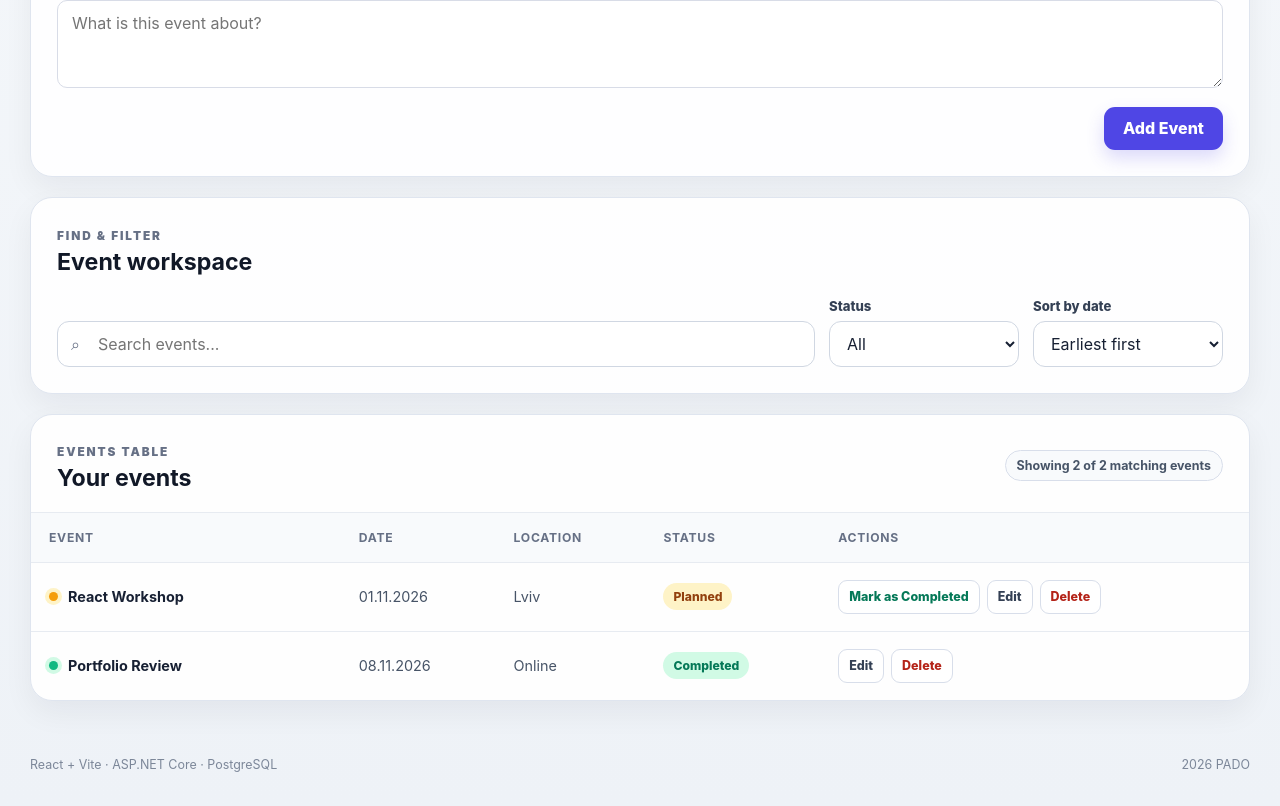
Test case: updates existing event over PUT
(page scrolled)
expect the text "React Workshop" is shown: met, box [68,588,184,605]
Click the button "Edit" in the row of "React Workshop" at [1010, 597], box [987,580,1033,614]
(page scrolled)
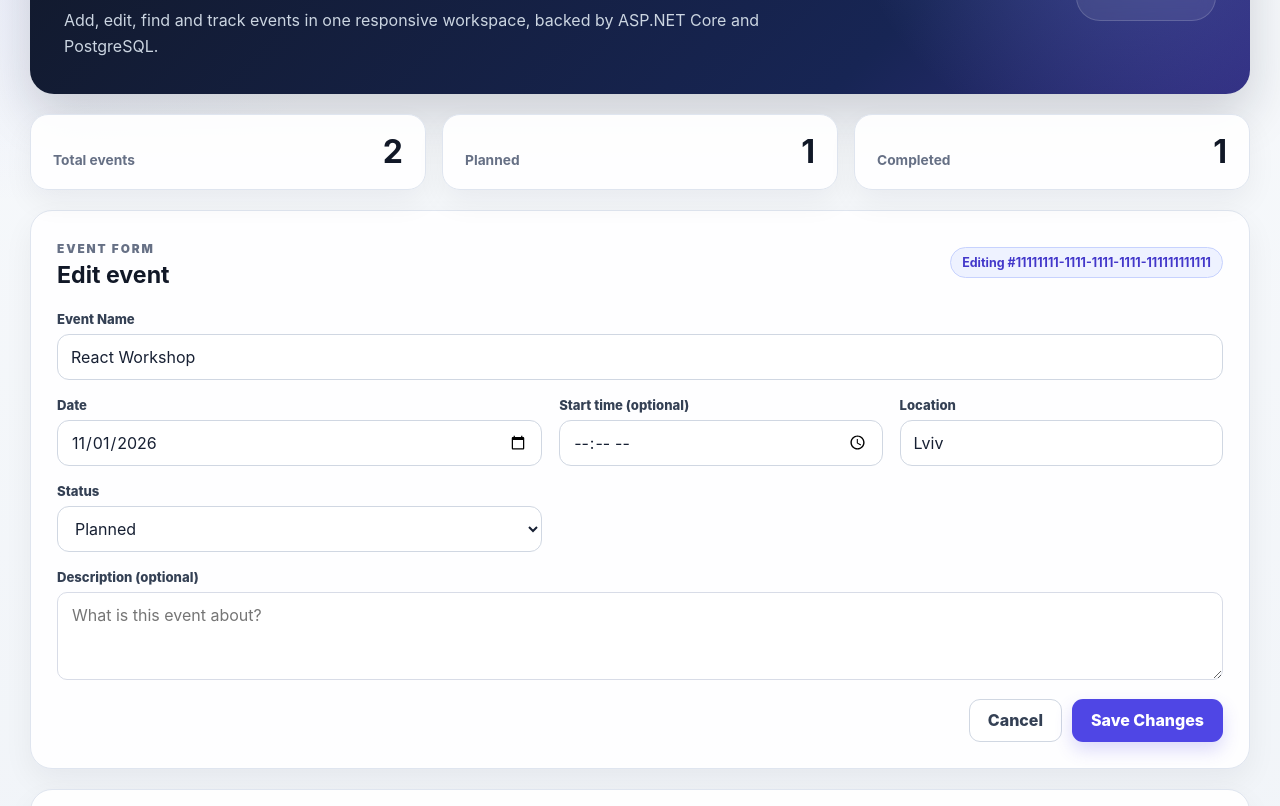
Replace the text in the field labelled "Event Name" with "Advanced React" at [640, 357], box [57,334,1223,380]
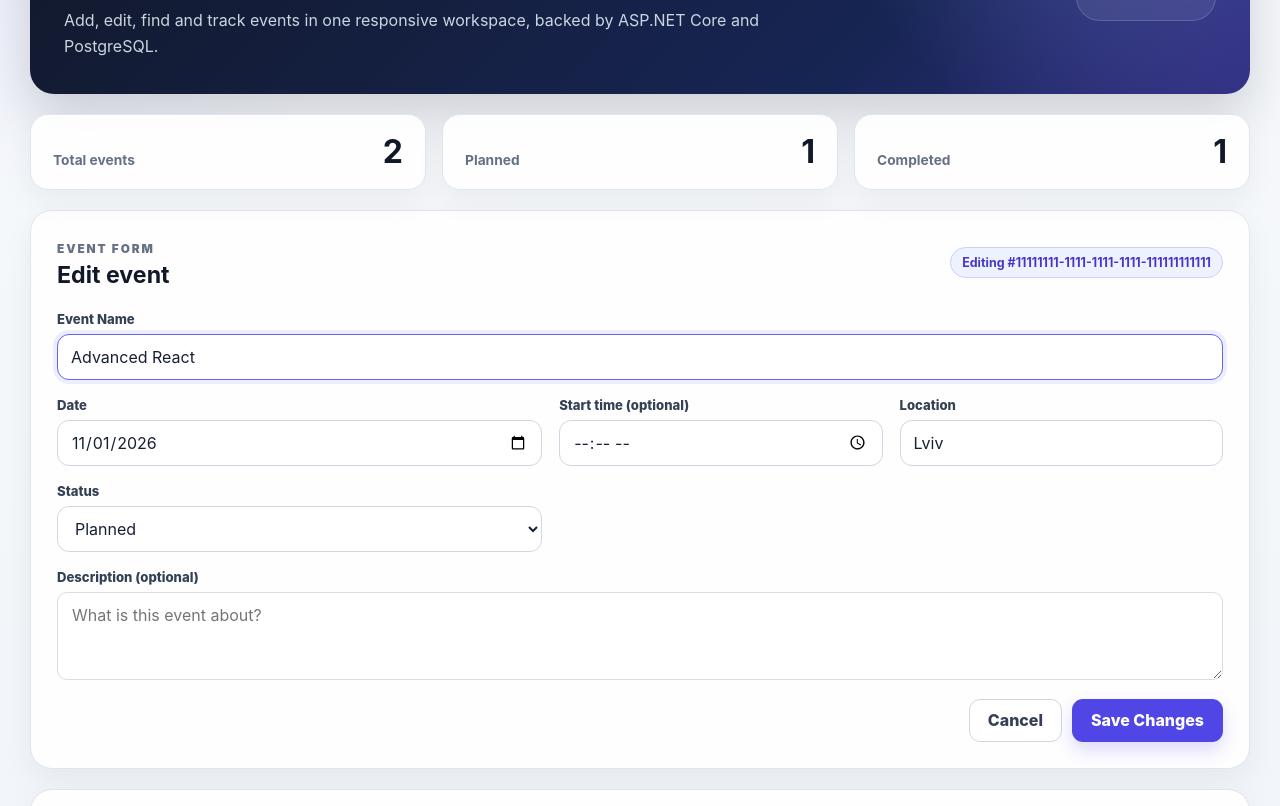
Click the button "Save Changes" at [1148, 720], box [1072,699,1223,742]
(page scrolled)
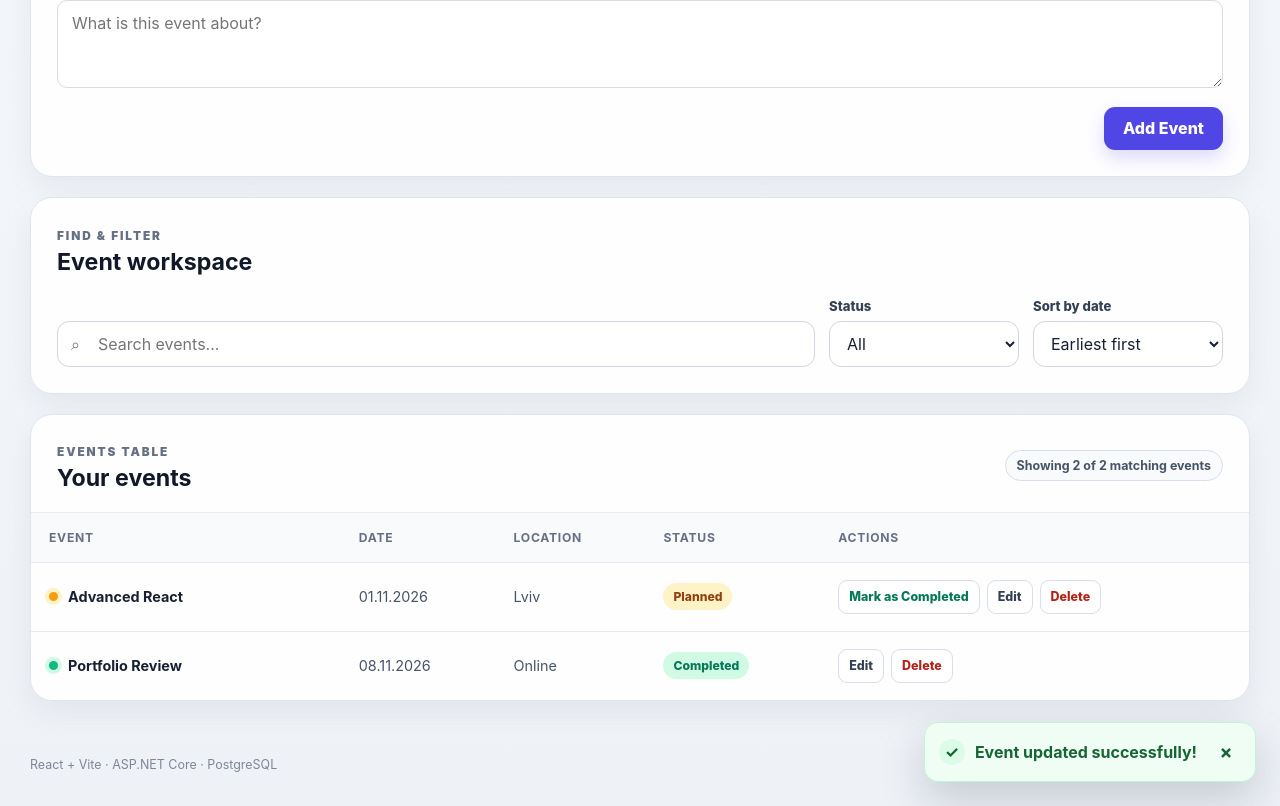
expect the text "Advanced React" is shown: met, box [68,588,183,605]
